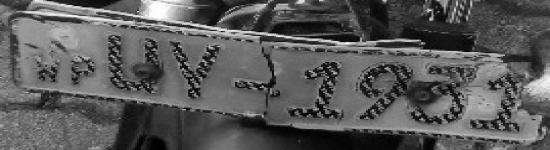-: (228, 74, 287, 100)
1: (283, 55, 352, 123), (470, 70, 532, 135)
3: (414, 60, 477, 126)
9: (349, 57, 414, 124)
P: (63, 52, 100, 88)
U: (102, 32, 162, 96)
W: (32, 52, 65, 86)
Y: (162, 38, 228, 100)
